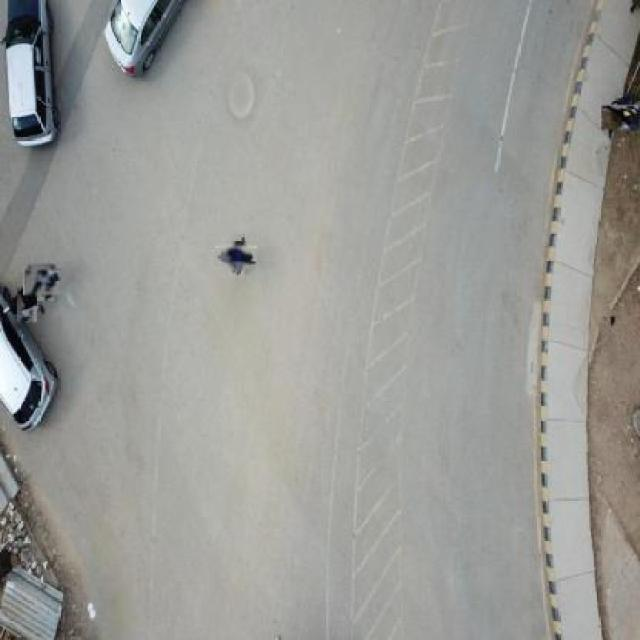Person: (604, 100, 638, 134), (26, 266, 59, 300), (220, 240, 252, 272), (13, 289, 41, 320)
